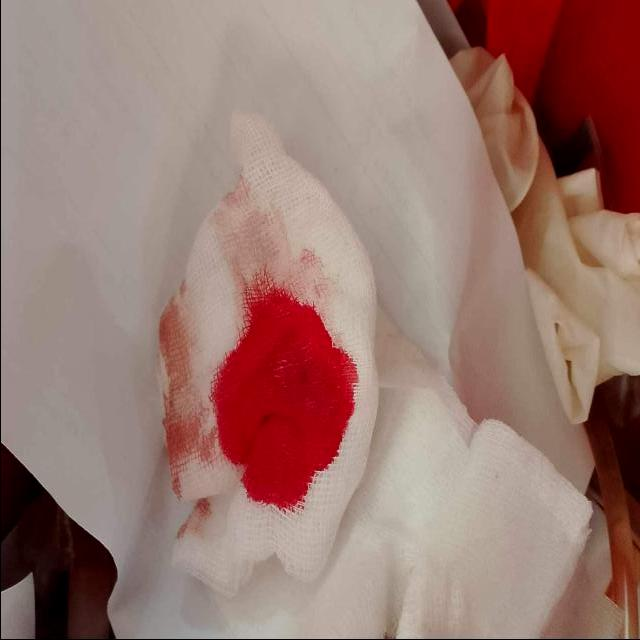General: (3, 3, 637, 638)
Infectious: (156, 111, 381, 599), (446, 46, 640, 426)
Sharps: (555, 114, 640, 639), (583, 401, 640, 639)
